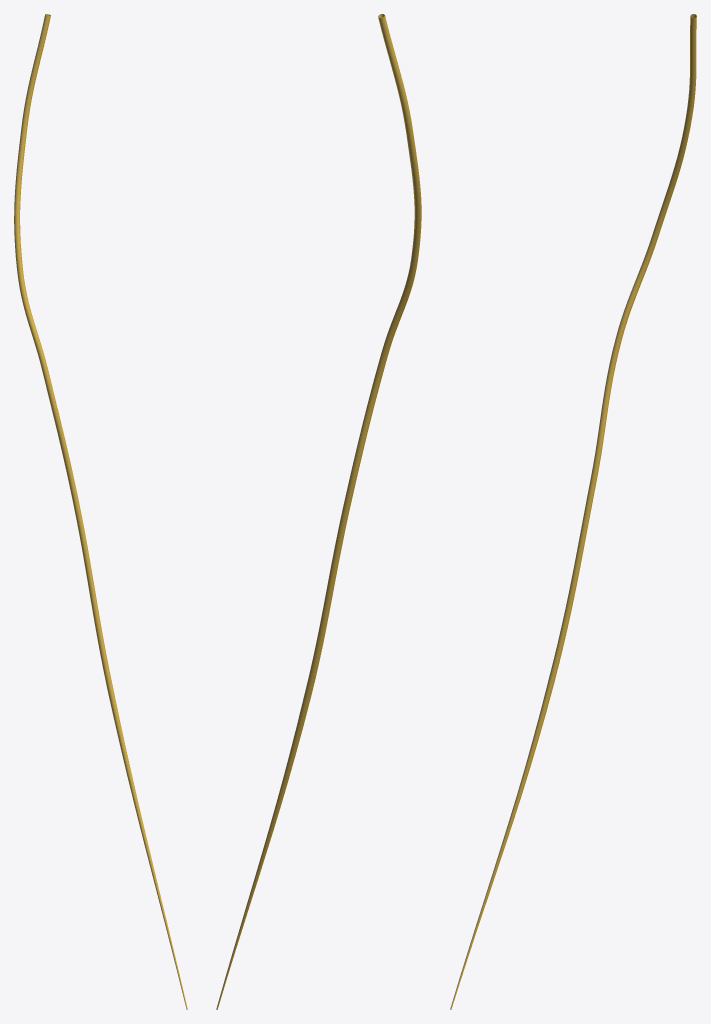
File: Posterior_interosseous_nerve_forearm_left.glb
3 renders of one model, left to right at view 1: azimuth 30°, elevation 25°; view 2: azimuth 210°, elevation 25°; view 3: azimuth 270°, elevation 25°, orthographic. The views are drawn at different scales.
Visible parts, largest first — view 1: Posterior_interosseus_nerve_of_forearm.l_BezierCurve.479; view 2: Posterior_interosseus_nerve_of_forearm.l_BezierCurve.479; view 3: Posterior_interosseus_nerve_of_forearm.l_BezierCurve.479.
Part boxes in pixels (<box>): Posterior_interosseus_nerve_of_forearm.l_BezierCurve.479: <box>14,14,187,1009</box>; Posterior_interosseus_nerve_of_forearm.l_BezierCurve.479: <box>216,14,421,1009</box>; Posterior_interosseus_nerve_of_forearm.l_BezierCurve.479: <box>450,14,696,1009</box>.
Bounding box in the file's own units: 0.0143 × 0.1673 × 0.0381.
